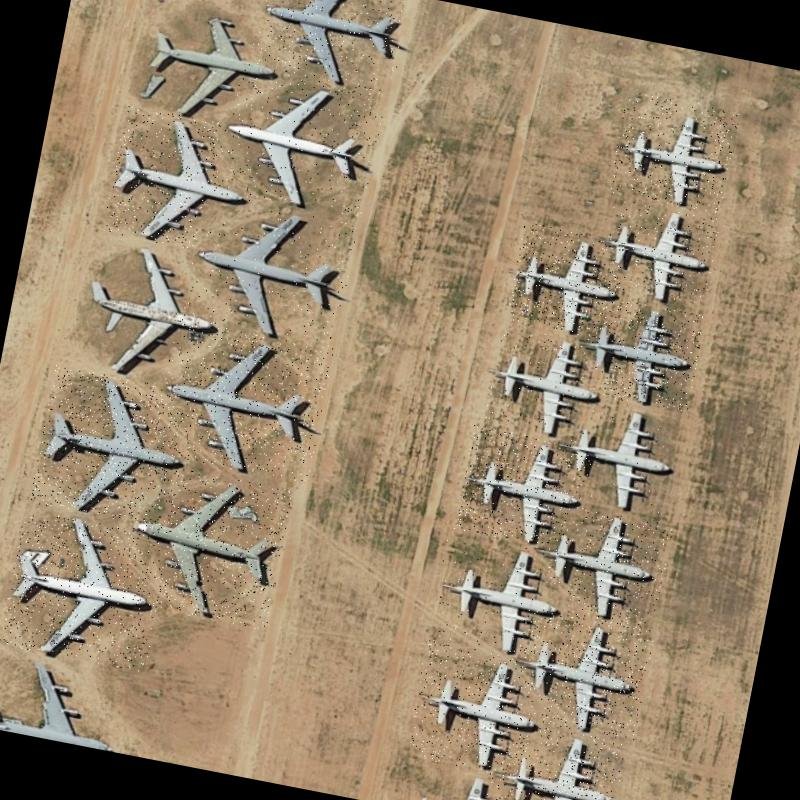A14: (150, 318, 334, 484), (114, 461, 292, 630), (180, 195, 358, 354), (28, 364, 198, 530), (0, 508, 171, 672), (215, 66, 386, 219), (102, 104, 264, 259), (246, 0, 410, 96)
A9: (404, 638, 552, 780), (504, 605, 654, 741), (424, 532, 576, 661), (529, 502, 673, 630), (544, 391, 682, 519), (454, 424, 590, 552), (608, 88, 740, 213), (571, 293, 706, 413), (505, 222, 628, 340), (484, 326, 611, 440), (598, 197, 720, 306), (481, 718, 627, 800)
